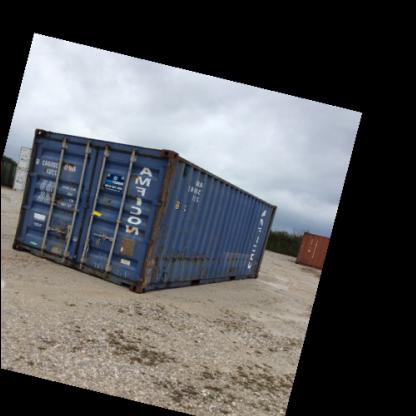Damage: (154, 250, 252, 270), (154, 148, 178, 207), (42, 214, 76, 244), (89, 255, 136, 273), (117, 214, 139, 233), (55, 156, 80, 172), (124, 163, 140, 182), (99, 198, 113, 204)
